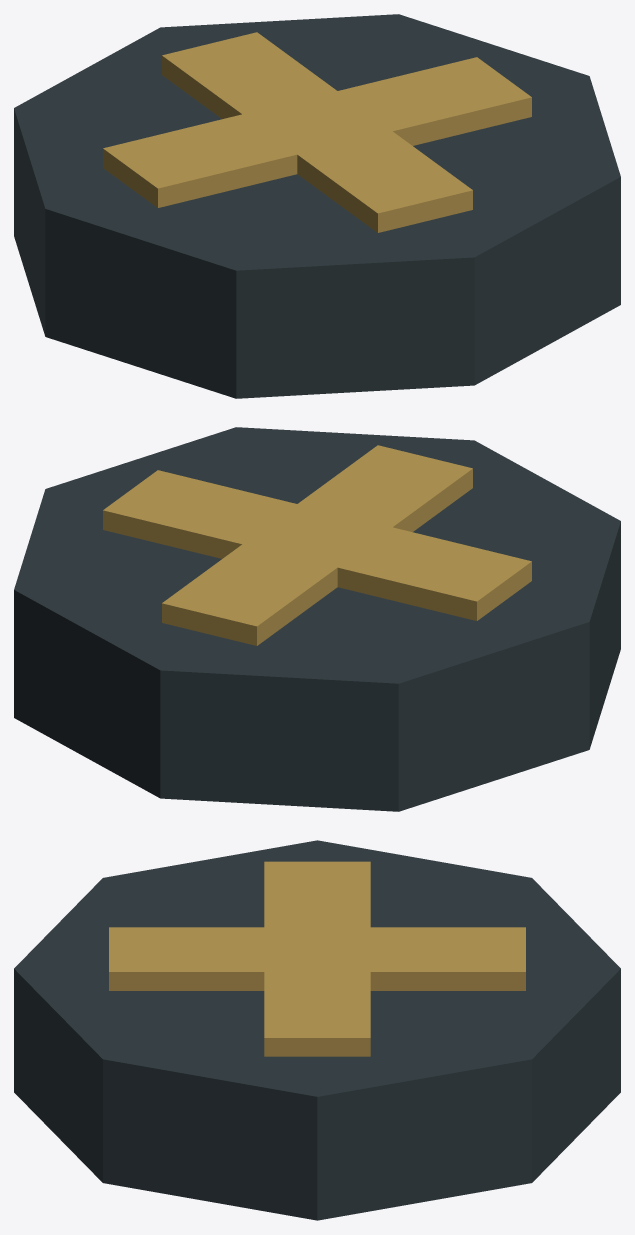
The model's file is rail-junction-lod0.2731fd269202.glb.
3 renders of one model, top to bottom at view 1: azimuth 30°, elevation 25°; view 2: azimuth 150°, elevation 25°; view 3: azimuth 270°, elevation 25°, orthographic. The views are drawn at different scales.
Visible parts, largest first — view 1: body; view 2: body; view 3: body.
Part boxes in pixels (x1,y1,x2,y2): body: (14, 14, 620, 398); body: (14, 427, 620, 811); body: (14, 840, 620, 1220).
Bounding box in the file's own units: 0.8 × 0.2075 × 0.8.
